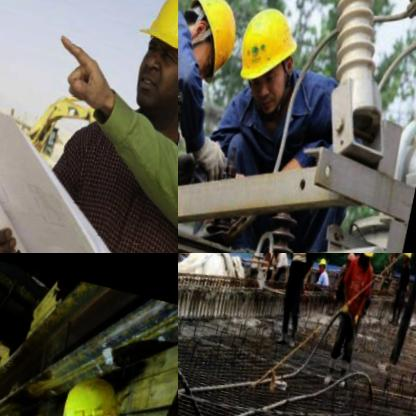helmet: (223, 0, 314, 120), (118, 0, 178, 132), (178, 0, 250, 82), (46, 364, 125, 416), (314, 253, 332, 274), (356, 253, 381, 266), (343, 253, 358, 267), (400, 253, 414, 264)
